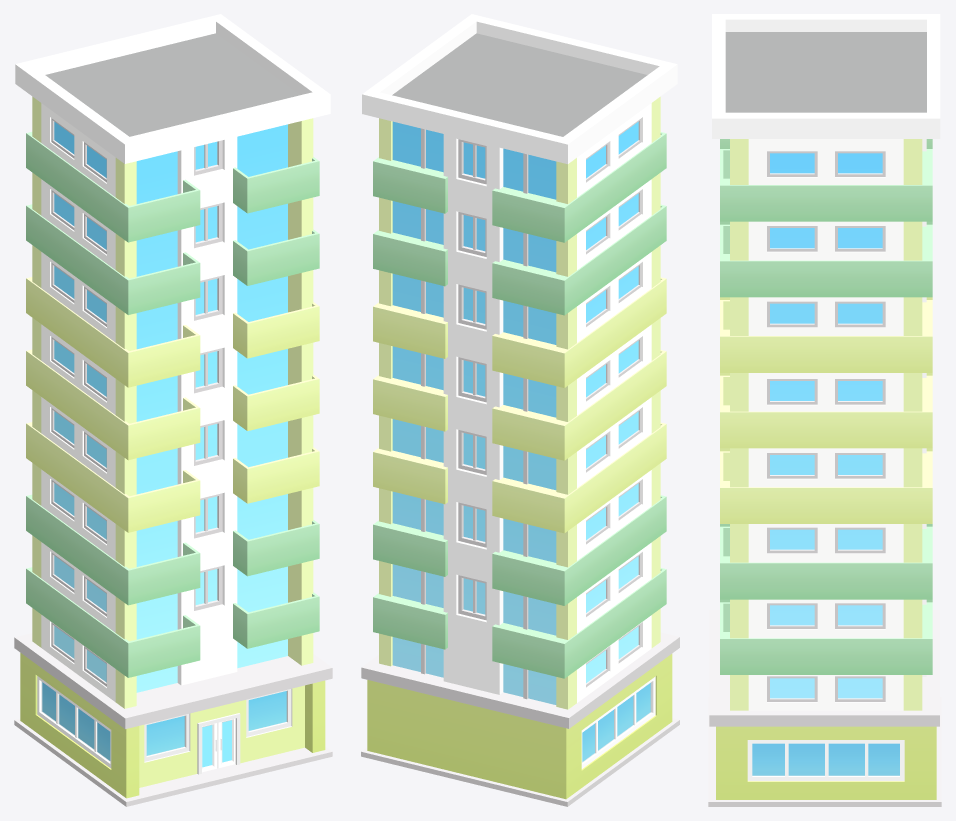
The model's file is city2-building-living-41.glb.
3 renders of one model, left to right at view 1: azimuth 30°, elevation 25°; view 2: azimuth 150°, elevation 25°; view 3: azimuth 270°, elevation 25°, orthographic. The views are drawn at different scales.
Visible parts, largest first — view 1: Building_Living_41; view 2: Building_Living_41; view 3: Building_Living_41.
Boxes of the visible parts, x1,y1,x2,y2 form: Building_Living_41: [14, 14, 332, 806]; Building_Living_41: [361, 14, 679, 806]; Building_Living_41: [708, 14, 941, 806].
Size of the model in its own units: 9.92 by 30.2 by 9.28.
2 materials, 2 textured.
